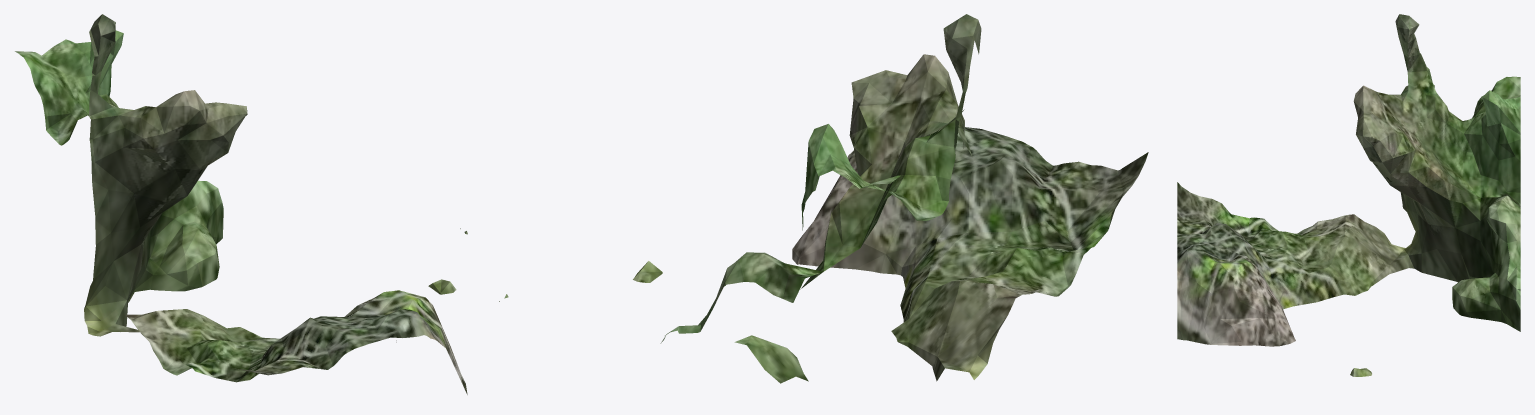
3 views of the same model, side by side, from view 1: azimuth 30°, elevation 25°; view 2: azimuth 150°, elevation 25°; view 3: azimuth 270°, elevation 25° (orthographic). The views are drawn at different scales.
Bounding box in the file's own units: 2.95 × 2.32 × 2.95.
2 materials, 2 textured.
